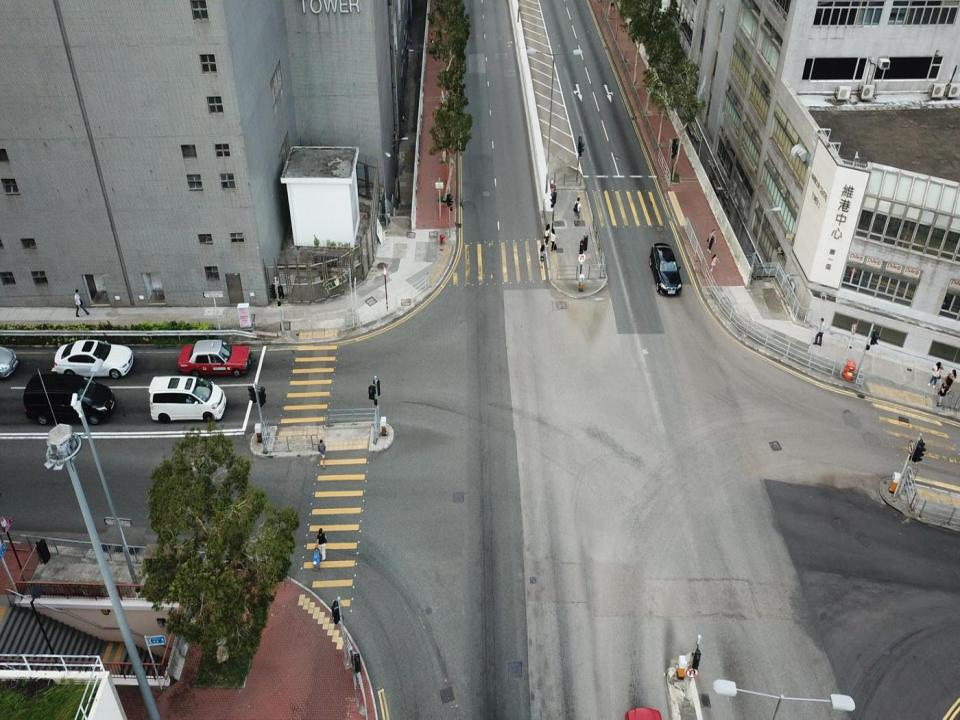car: (54, 339, 134, 378), (178, 340, 252, 376), (650, 242, 682, 295)
van: (25, 372, 114, 422), (148, 374, 226, 422)
